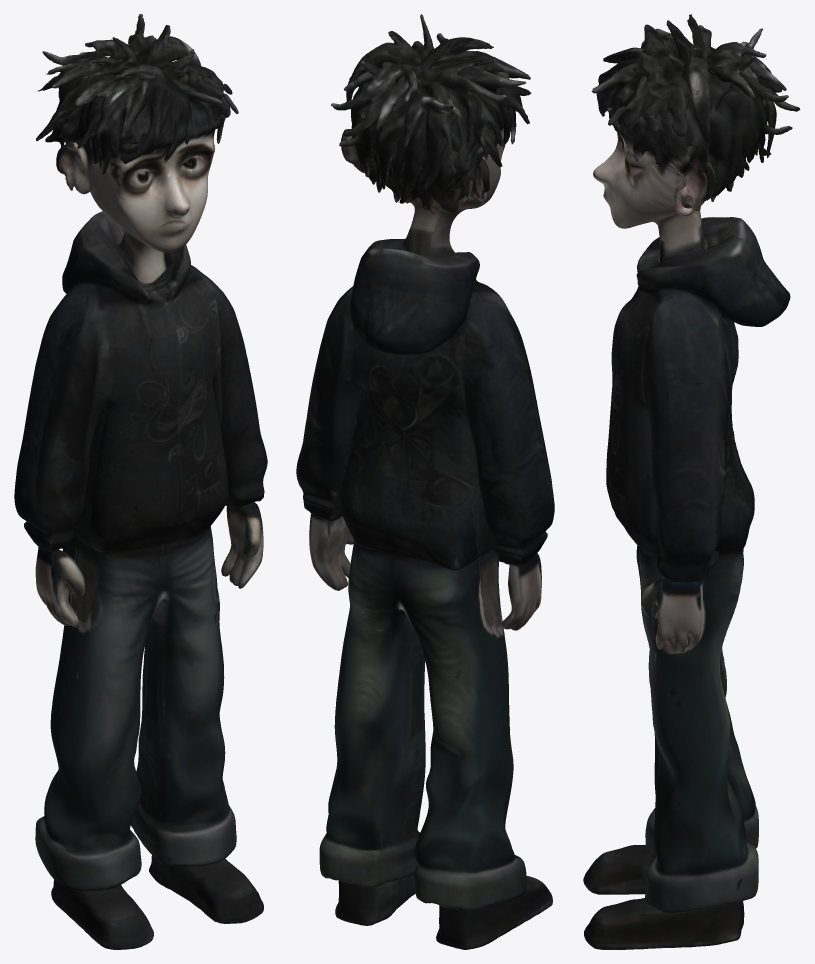
File: avatar.glb
3 views of the same model, side by side, from view 1: azimuth 30°, elevation 25°; view 2: azimuth 150°, elevation 25°; view 3: azimuth 270°, elevation 25° (orthographic). The views are drawn at different scales.
Size of the model in its own units: 0.5833 by 2.01 by 0.4464.
Materials: 1 (1 with a texture image).
